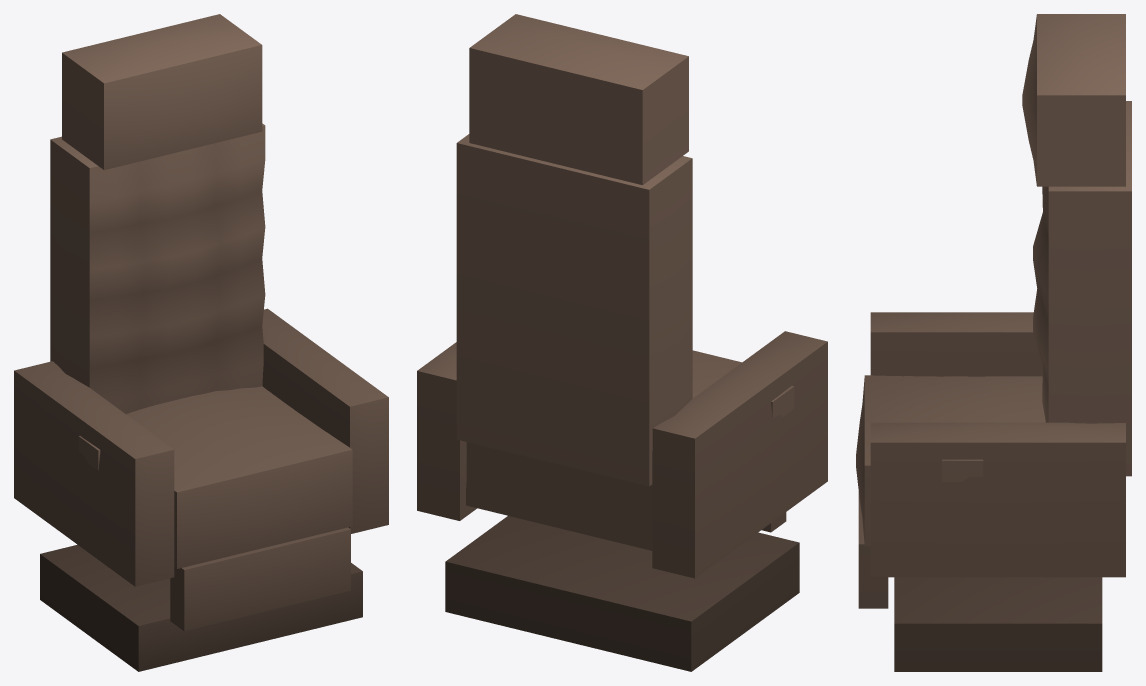
File: recliner_single_lod1.glb
3 renders of one model, left to right at view 1: azimuth 30°, elevation 25°; view 2: azimuth 150°, elevation 25°; view 3: azimuth 270°, elevation 25°, orthographic. The views are drawn at different scales.
Visible parts, largest first — view 1: ReclinerSingle_LOD1; view 2: ReclinerSingle_LOD1; view 3: ReclinerSingle_LOD1.
Part boxes in pixels (x1=…): ReclinerSingle_LOD1: x1=14, y1=14, x2=388, y2=671; ReclinerSingle_LOD1: x1=417, y1=14, x2=827, y2=671; ReclinerSingle_LOD1: x1=856, y1=14, x2=1131, y2=671.
Bounding box in the file's own units: 1.08 × 2.11 × 0.9293.
